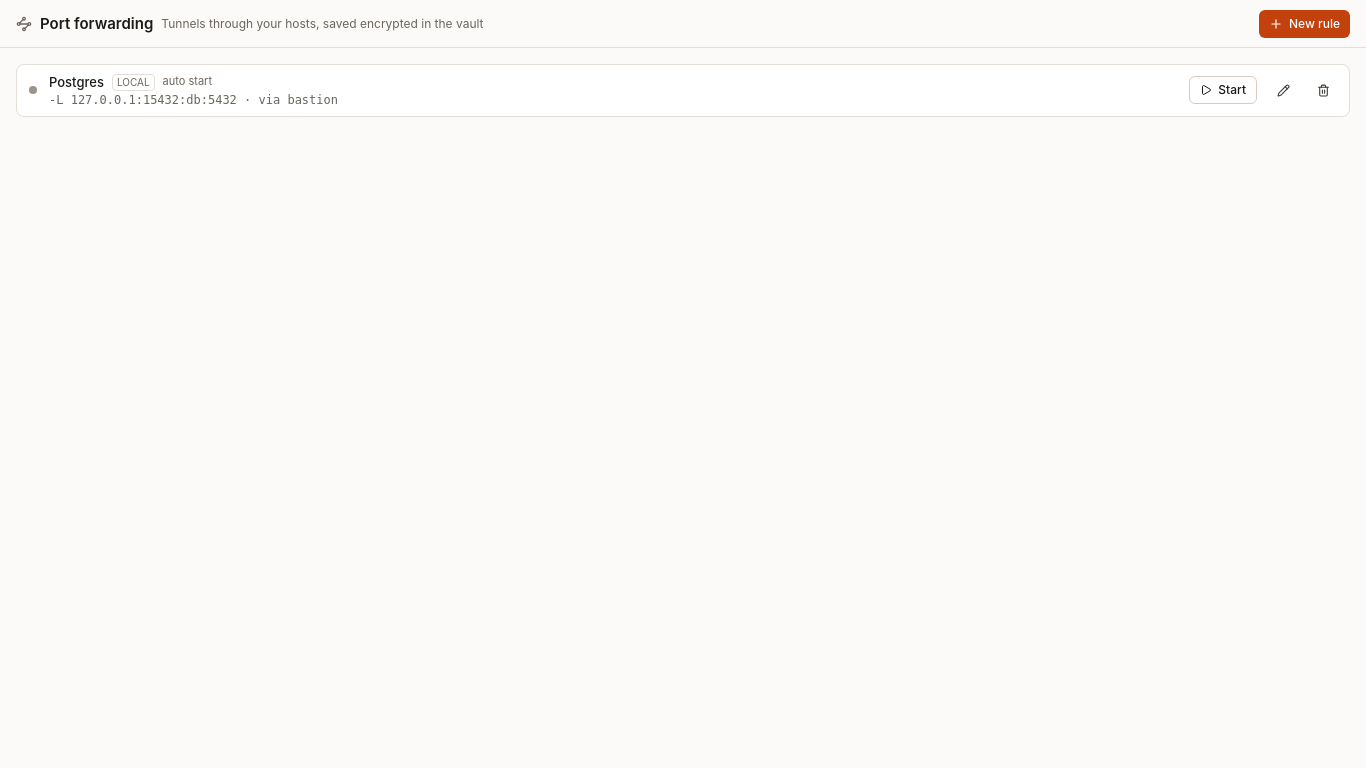
Test: ForwardsView › deletes a rule after confirmation
The image size is (1366, 768).
Click the button named "Delete Postgres": (1323, 90) [1309,76,1337,104]
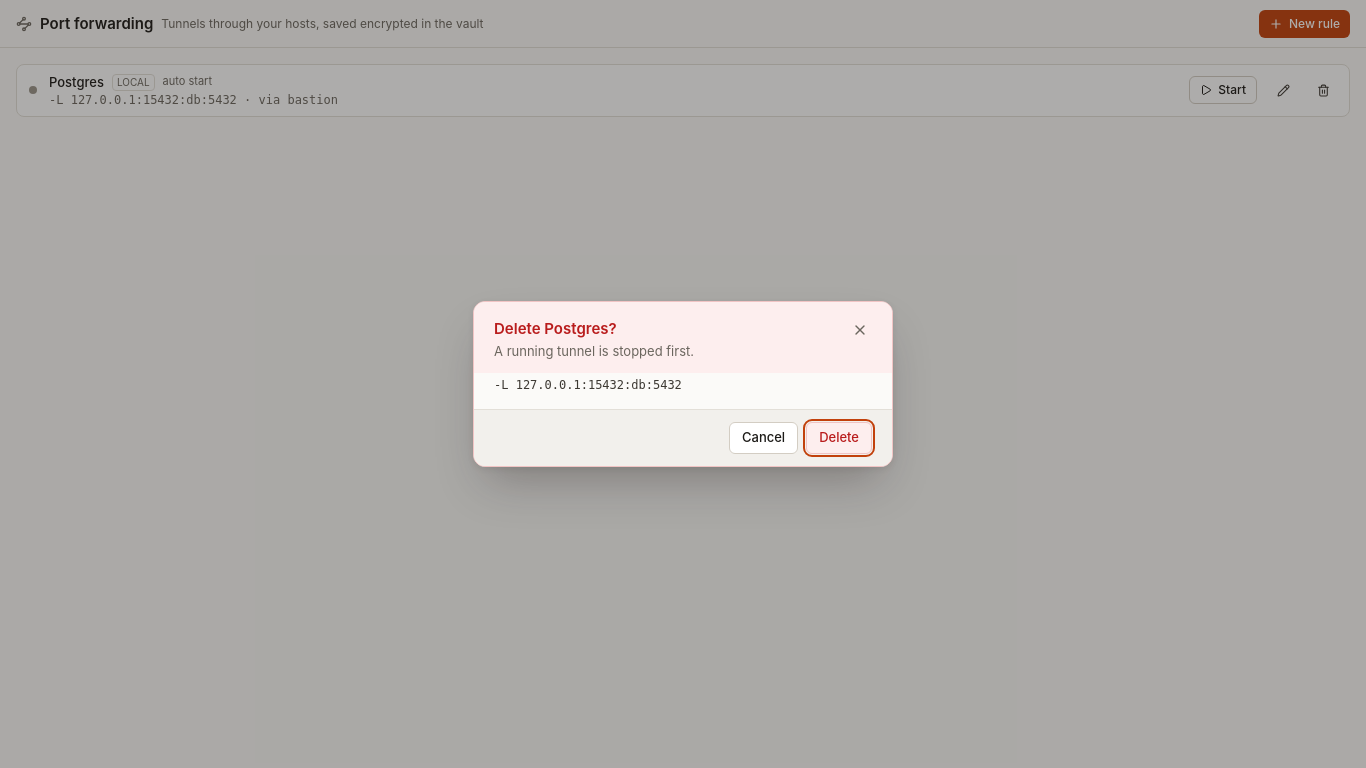
Click the button "Delete": (839, 438) [806,422,872,454]
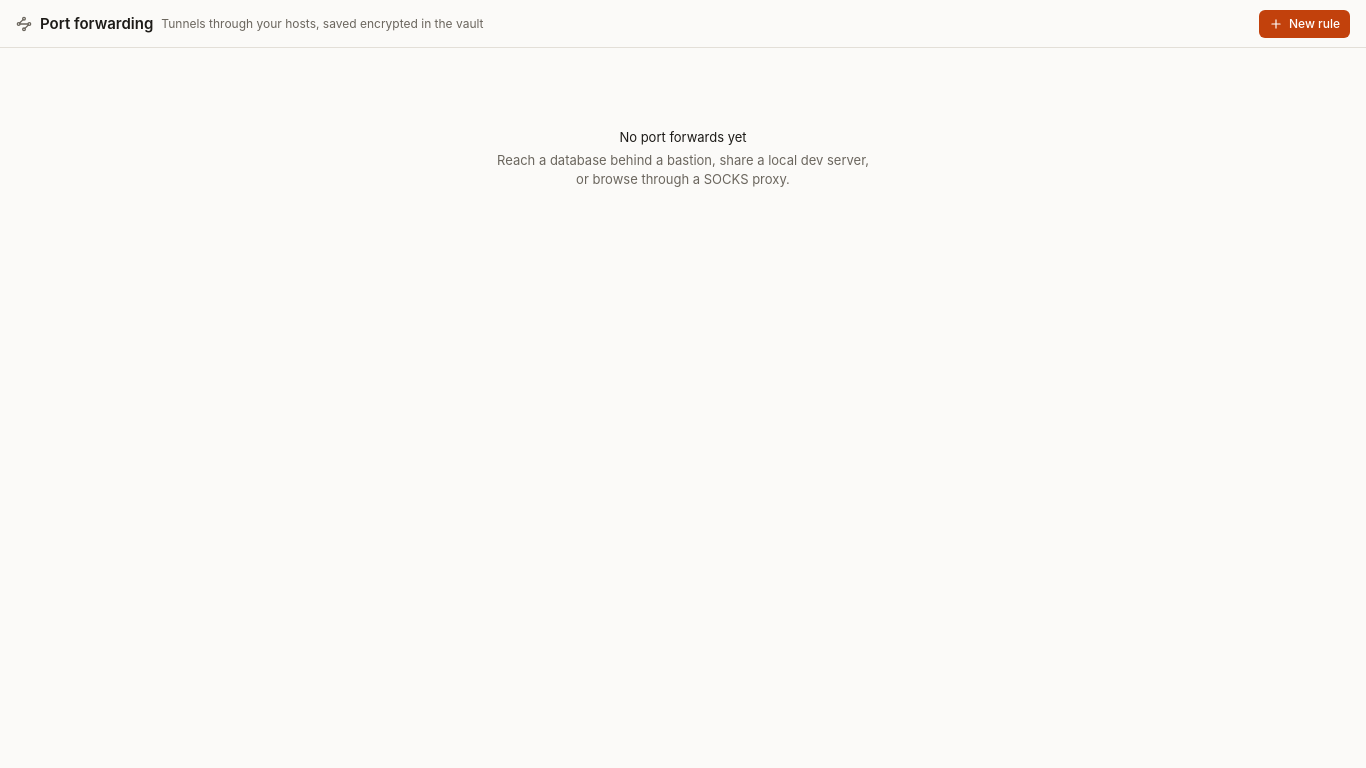
Expected: the text "Postgres" is gone
